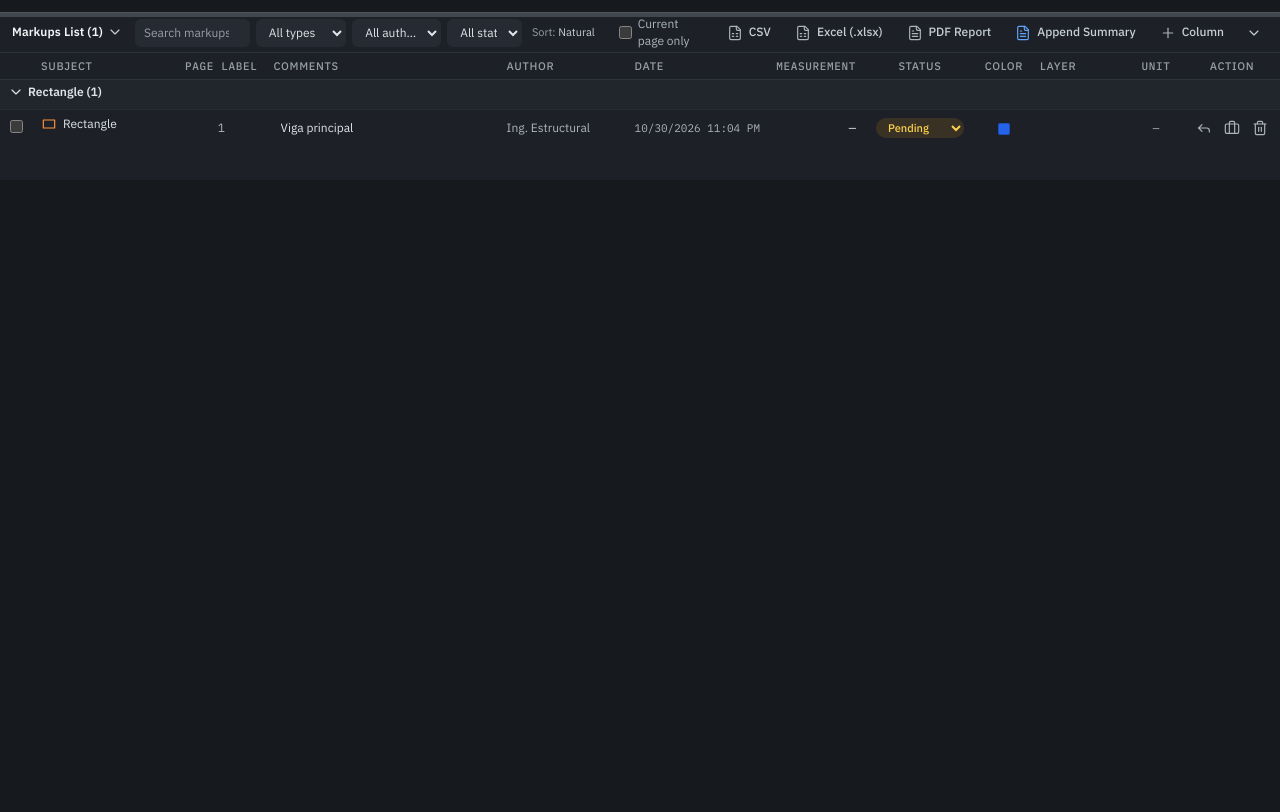
it: MarkupsList Context Menu (Añadir a Tool Chest B.4) › abre menú contextual con opción "Añadir a Tool Chest" al hacer clic derecho en la fila
The image size is (1280, 812).
Clic derecho (contextmenu)
Right-click the row with test id "markup-row-markup-test-1": x=640, y=128 [0,110,1279,147]
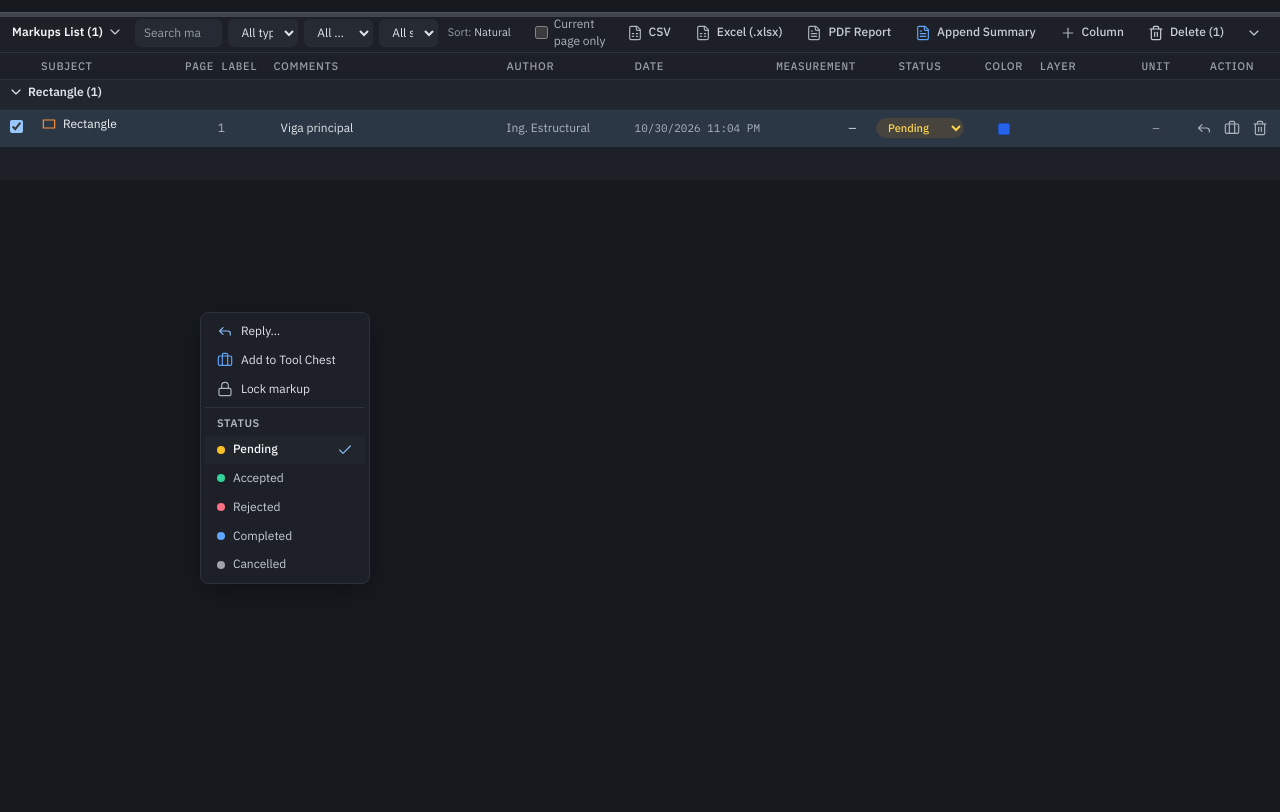
Result: the element with test id "markups-list-context-menu" is shown at [200,312,370,584]
Result: the button with test id "context-menu-add-to-toolchest" is shown
Result: the button with test id "context-menu-add-to-toolchest" reads "Add to Tool Chest"
Al hacer clic, añade la herramienta a la paleta activa
Click the button with test id "context-menu-add-to-toolchest": x=285, y=360 [205,346,365,375]
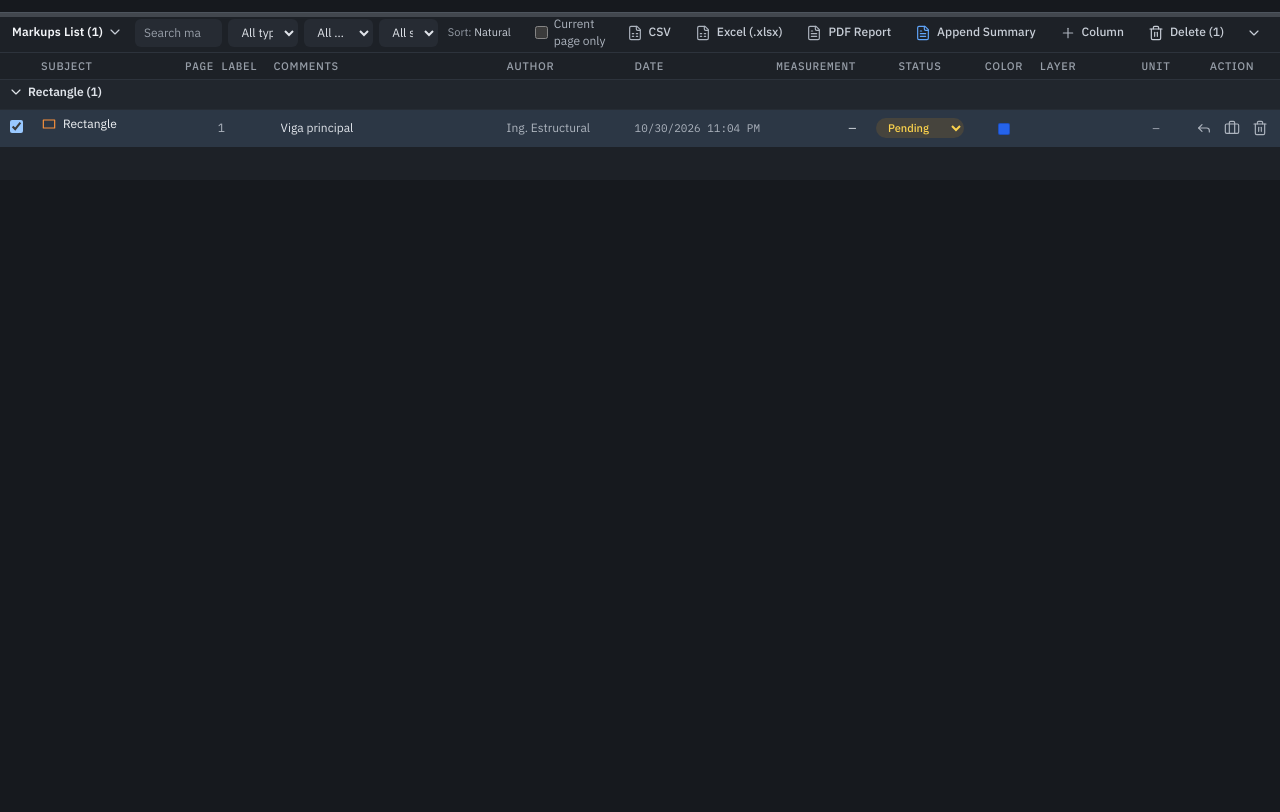
Result: the element with test id "markups-list-context-menu" is gone
